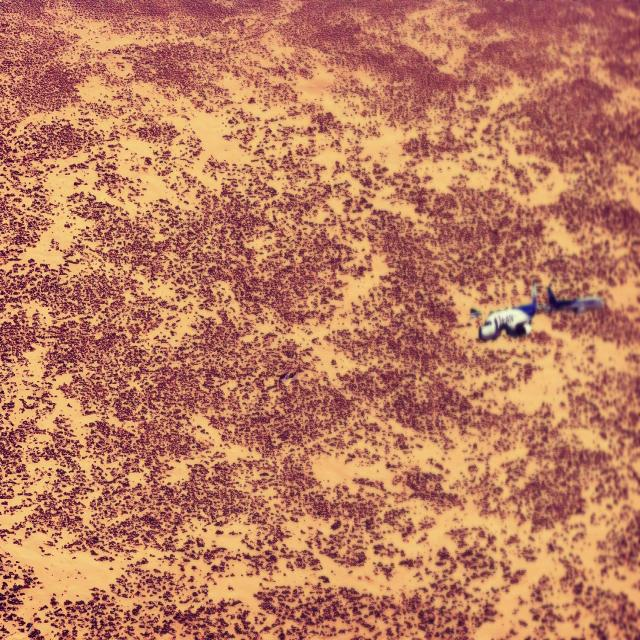airplane: (469, 282, 538, 342), (546, 284, 604, 314)
